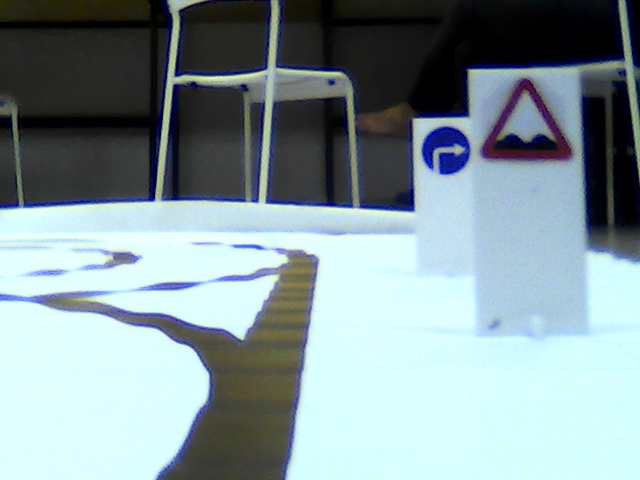Nerov: (476, 79, 574, 162)
Right: (422, 124, 471, 174)
